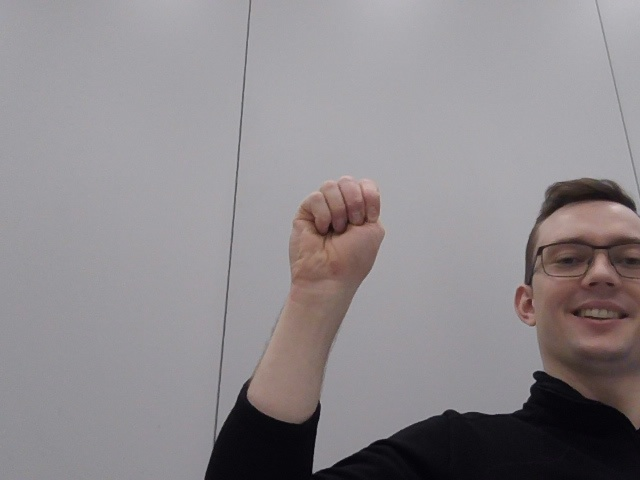down: (261, 165, 411, 312)
